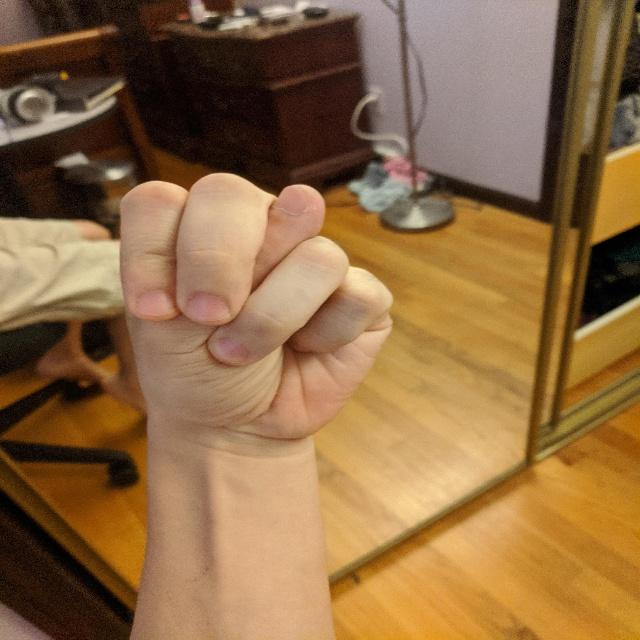N: (110, 168, 395, 446)
